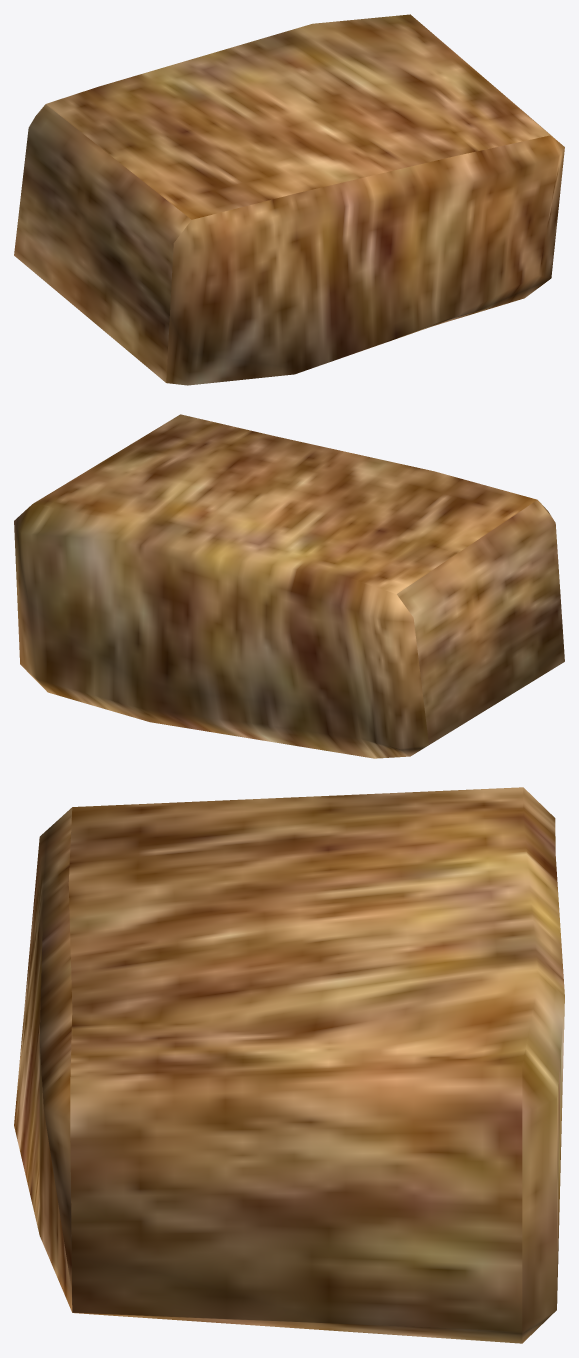
The model's file is PiattaformaLegno02.FBX.
The picture shows the model from 3 angles, top to bottom: view 1: azimuth 30°, elevation 25°; view 2: azimuth 150°, elevation 25°; view 3: azimuth 270°, elevation 25°; orthographic projection. The views are drawn at different scales.
Visible parts, largest first — view 1: PiattaformaLegno; view 2: PiattaformaLegno; view 3: PiattaformaLegno.
Boxes of the visible parts, box(x1,y1,x2,y2) form: PiattaformaLegno: box(14, 14, 564, 385); PiattaformaLegno: box(14, 414, 564, 758); PiattaformaLegno: box(14, 787, 564, 1343).
Size of the model in its own units: 92.35 by 42.34 by 67.6.
Materials: 1 (1 with a texture image).
